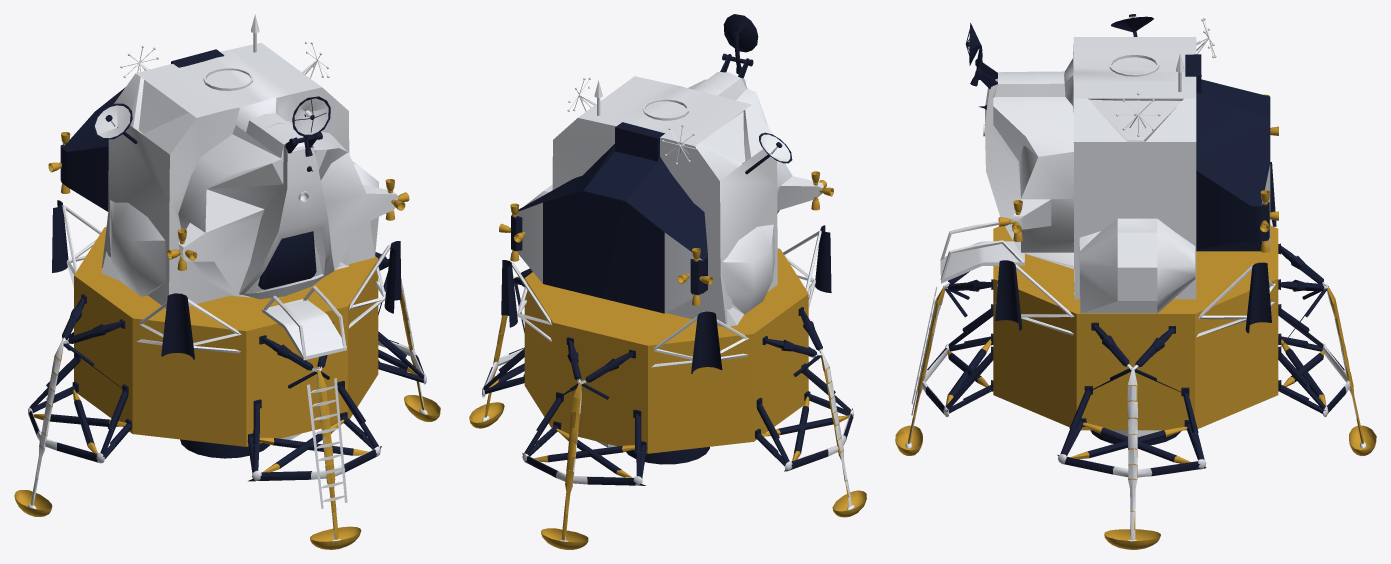
Rendered from lander.glb.
3 views of the same model, side by side, from view 1: azimuth 30°, elevation 25°; view 2: azimuth 150°, elevation 25°; view 3: azimuth 270°, elevation 25° (orthographic). The views are drawn at different scales.
Parts seen in each view (by area): view 1: lander_body_mesh, lander_base_mesh; view 2: lander_body_mesh, lander_base_mesh; view 3: lander_body_mesh, lander_base_mesh.
Part boxes in pixels (<box>): lander_body_mesh: <box>48,14,409,359</box>; lander_base_mesh: <box>14,227,440,549</box>; lander_body_mesh: <box>499,14,833,373</box>; lander_base_mesh: <box>469,248,866,549</box>; lander_body_mesh: <box>965,14,1278,333</box>; lander_base_mesh: <box>895,221,1376,549</box>.
Bounding box in the file's own units: 3.36 × 3.31 × 3.36.
